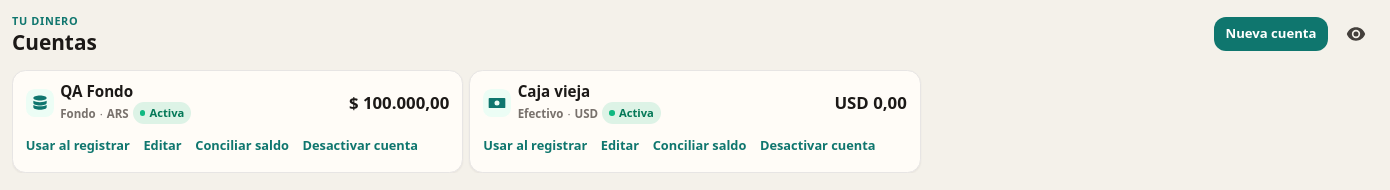
Test: AccountsPage › marks an account as the default one for Registrar
expect the heading "QA Fondo" is shown: met, box [60,81,133,101]
expect the text "Predeterminada" is not shown: met
Click the button "Usar al registrar" below "ARS" at (78, 146), box [26,130,130,161]
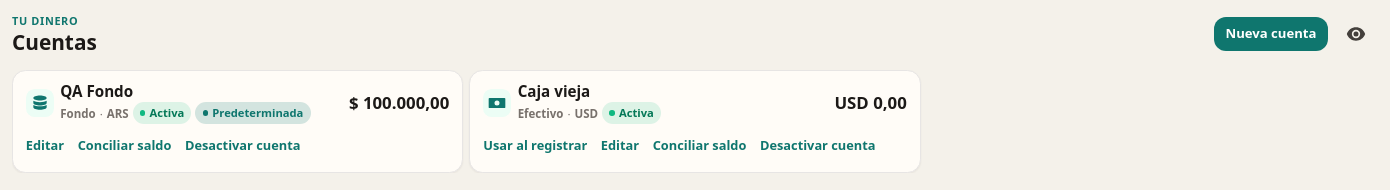
expect the number of buttons "Usar al registrar" is 1: met, box [483,130,587,161]
expect the text "Predeterminada" is shown: met, box [212,106,303,120]
